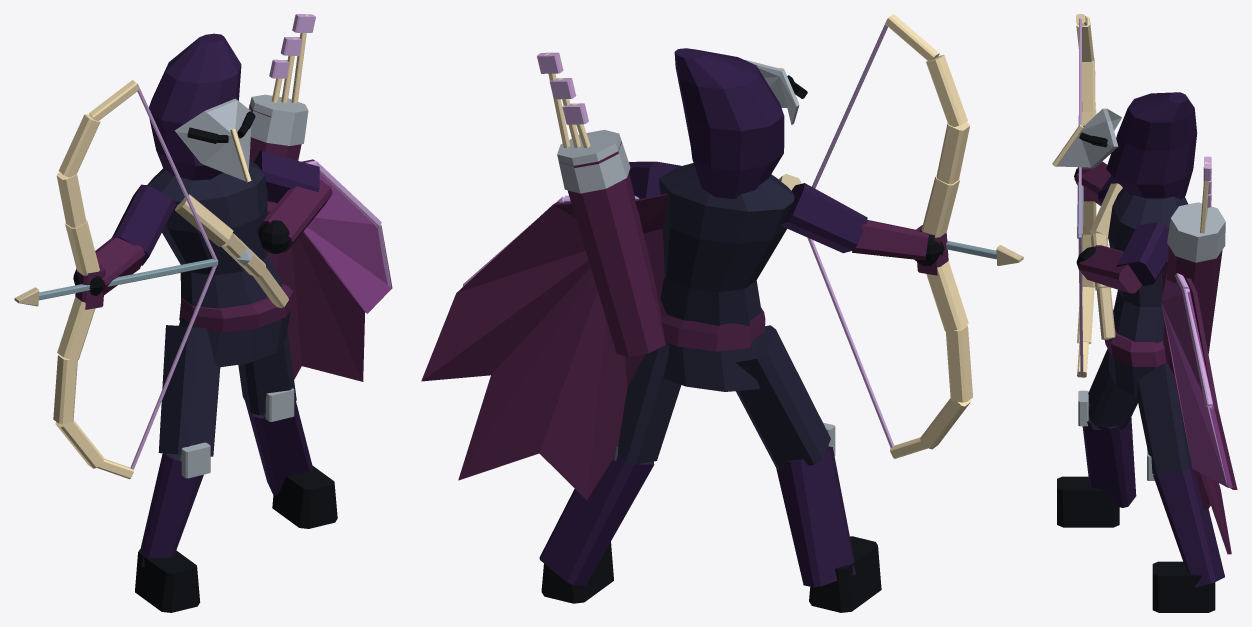
File: class-archer.glb
The picture shows the model from 3 angles, left to right: view 1: azimuth 30°, elevation 25°; view 2: azimuth 150°, elevation 25°; view 3: azimuth 270°, elevation 25°; orthographic projection. The views are drawn at different scales.
Parts seen in each view (by area): view 1: Class Archer.001; view 2: Class Archer.001; view 3: Class Archer.001.
Boxes of the visible parts, bbox=[...] form: Class Archer.001: bbox=[14, 14, 392, 612]; Class Archer.001: bbox=[421, 14, 1023, 612]; Class Archer.001: bbox=[1052, 14, 1237, 612].
Bounding box in the file's own units: 1.78 × 1.98 × 0.6792.
1 material, 1 textured.
